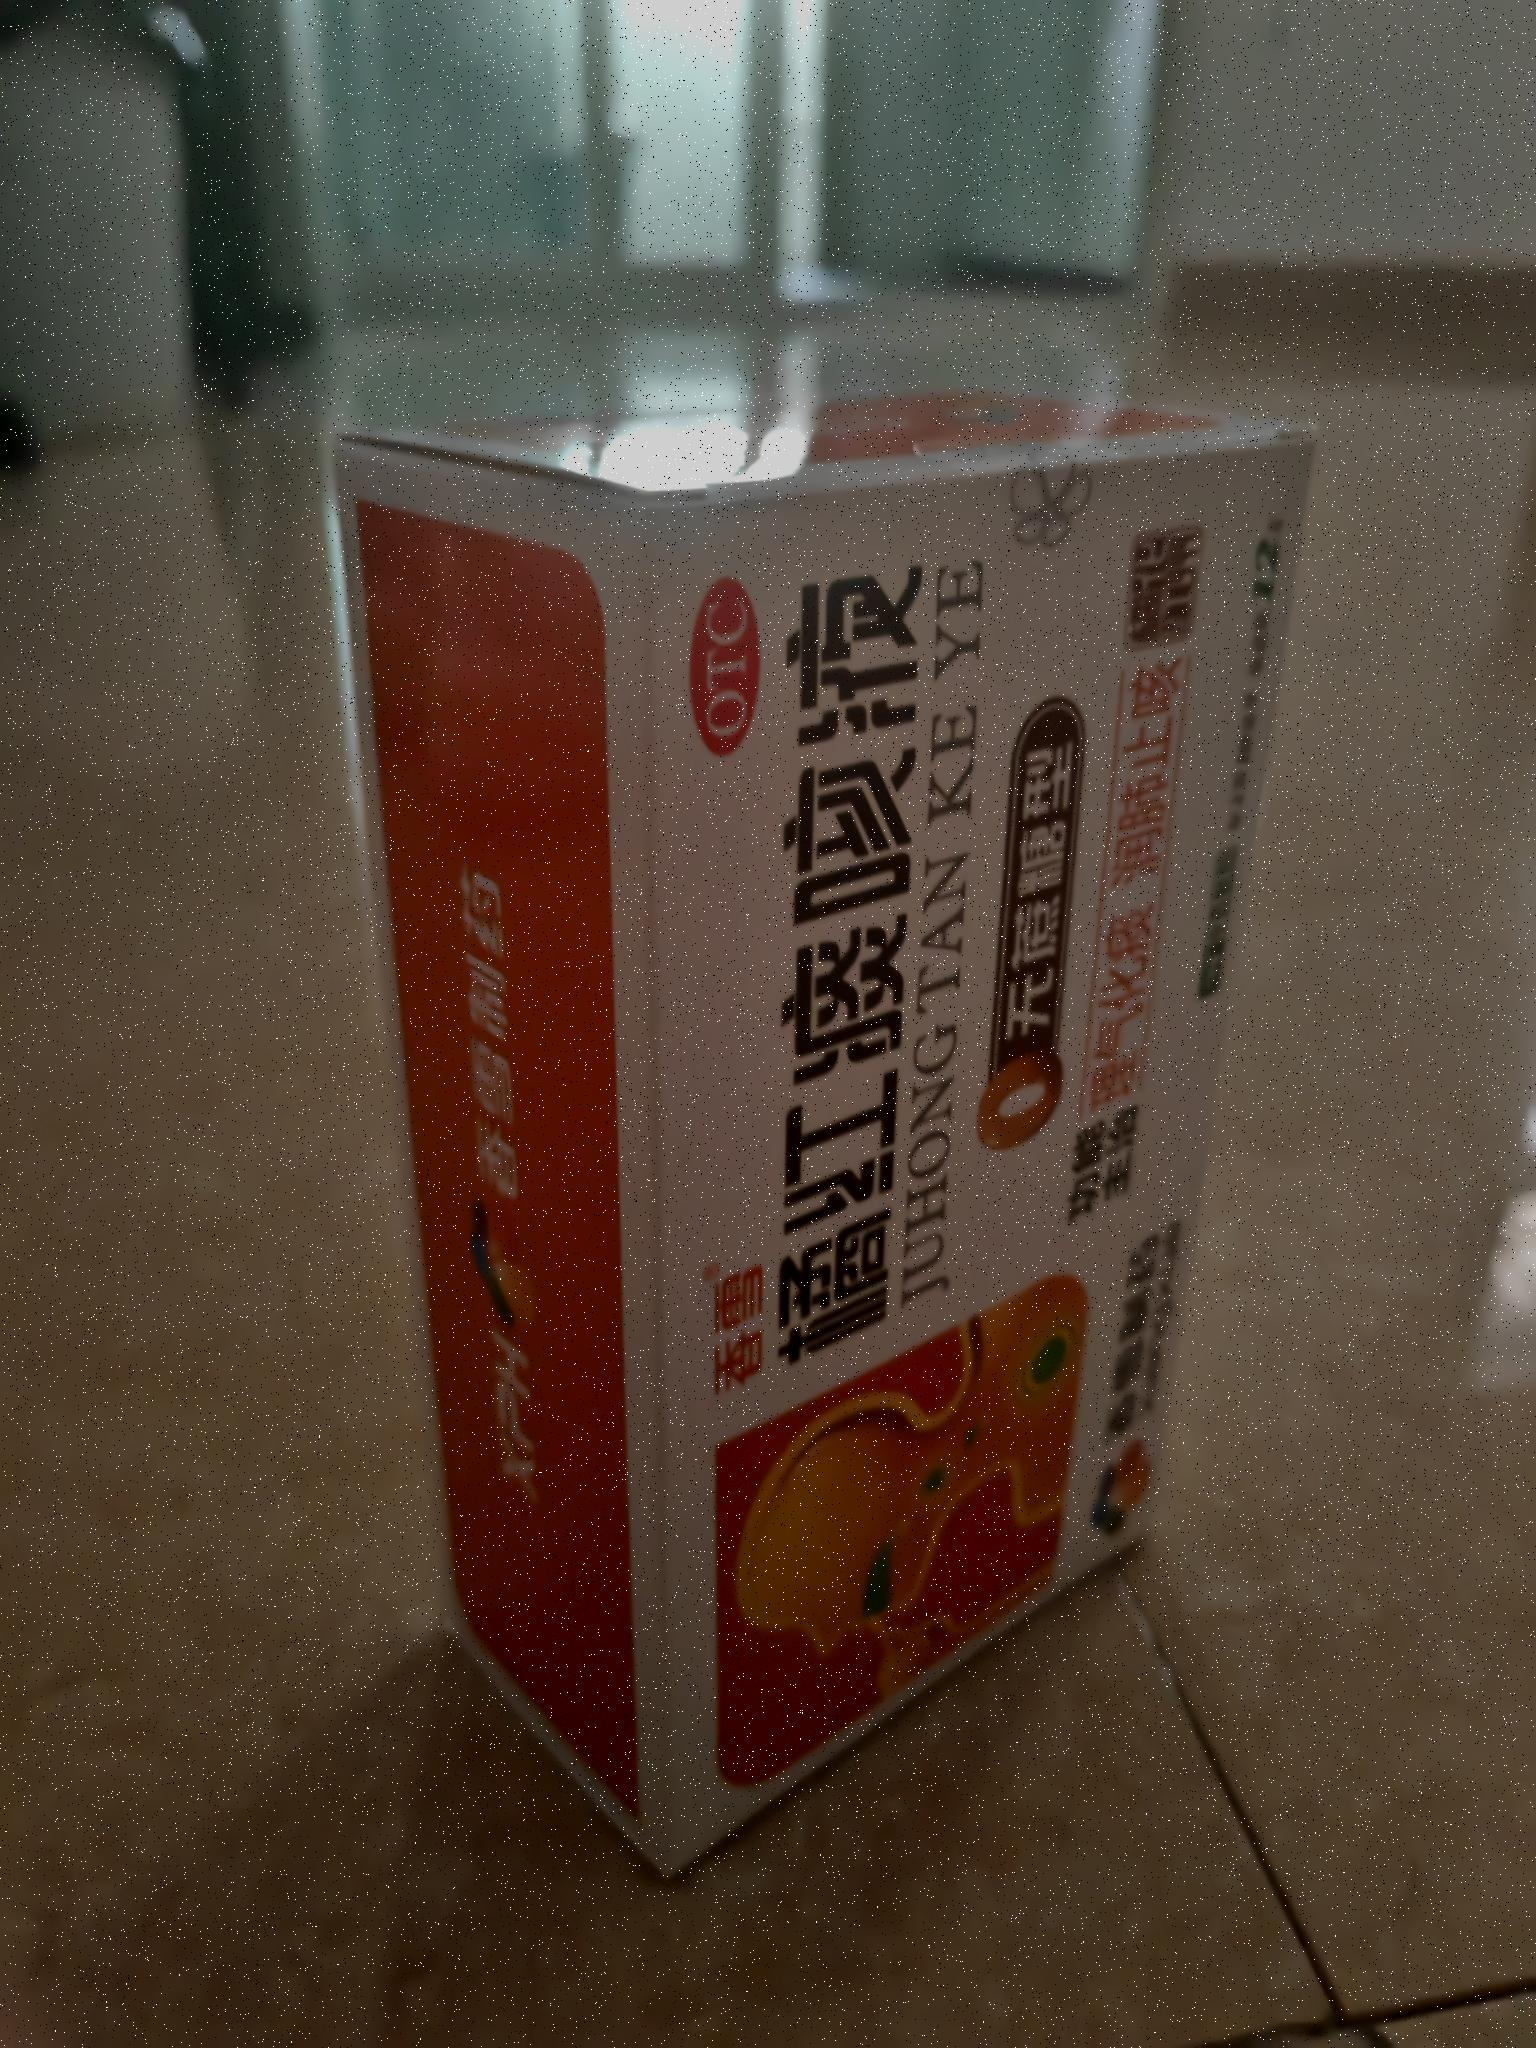Medicine1: (300, 381, 1344, 1900)
